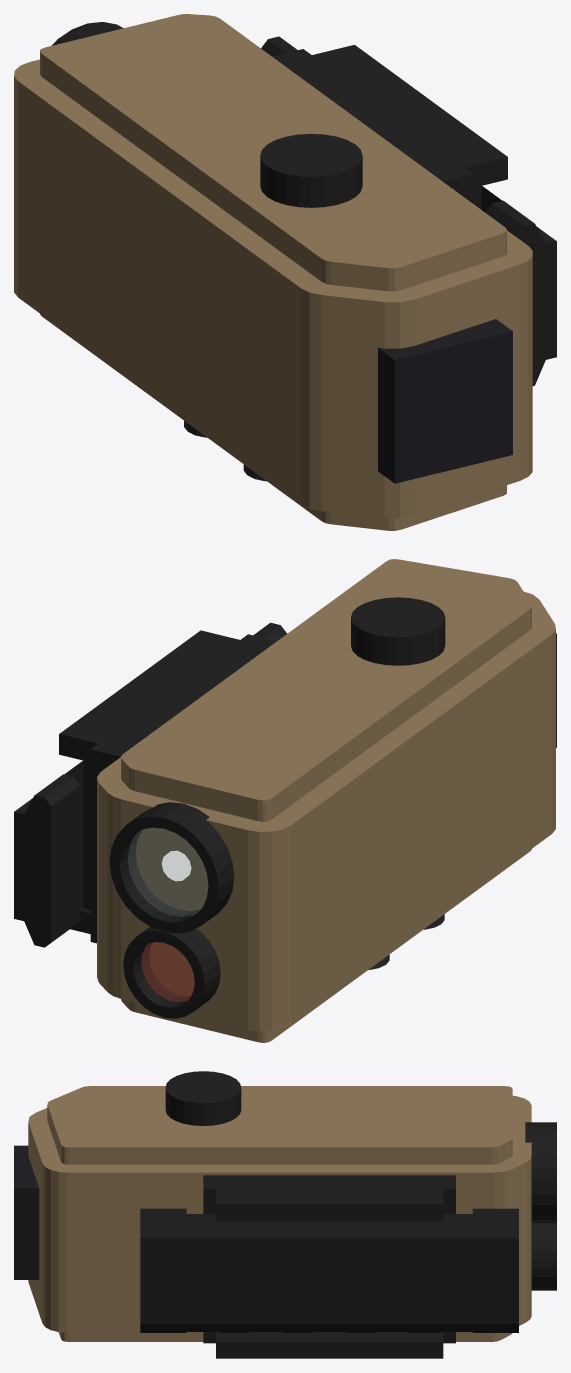
Rendered from laser_fuzil.glb.
3 views of the same model, one above another, from view 1: azimuth 30°, elevation 25°; view 2: azimuth 150°, elevation 25°; view 3: azimuth 270°, elevation 25° (orthographic). The views are drawn at different scales.
Visible parts, largest first — view 1: laser_fuzil_chassi_tan, laser_fuzil_aluminio_preto, laser_fuzil_borracha; view 2: laser_fuzil_chassi_tan, laser_fuzil_aluminio_preto, laser_fuzil_lente, laser_fuzil_lente_laser, laser_fuzil_led_lanterna; view 3: laser_fuzil_aluminio_preto, laser_fuzil_chassi_tan, laser_fuzil_borracha.
Part boxes in pixels (left/top/right/bottom): laser_fuzil_chassi_tan: left=14, top=14, right=532, bottom=530; laser_fuzil_aluminio_preto: left=51, top=22, right=556, bottom=385; laser_fuzil_borracha: left=378, top=319, right=512, bottom=483; laser_fuzil_chassi_tan: left=97, top=559, right=555, bottom=1042; laser_fuzil_aluminio_preto: left=14, top=597, right=445, bottom=1018; laser_fuzil_lente: left=128, top=828, right=207, bottom=916; laser_fuzil_lente_laser: left=141, top=942, right=194, bottom=1001; laser_fuzil_led_lanterna: left=161, top=850, right=191, bottom=881; laser_fuzil_aluminio_preto: left=140, top=1071, right=556, bottom=1358; laser_fuzil_chassi_tan: left=28, top=1086, right=531, bottom=1341; laser_fuzil_borracha: left=14, top=1145, right=39, bottom=1279.
Size of the model in its own units: 0.0398 by 0.0405 by 0.086.
Materials: 7 (1 with a texture image).
